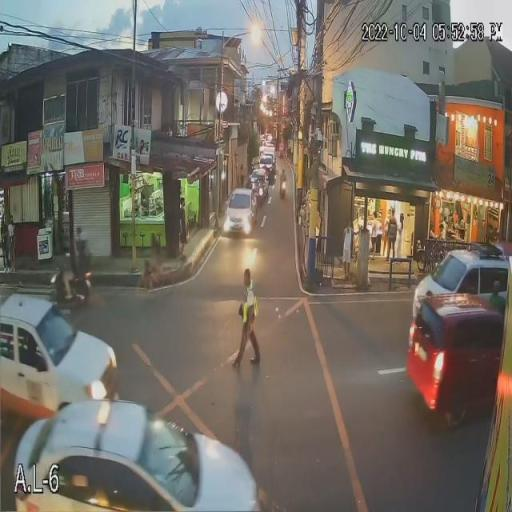motorcycle: (49, 264, 93, 306)
rider: (59, 248, 75, 300)
